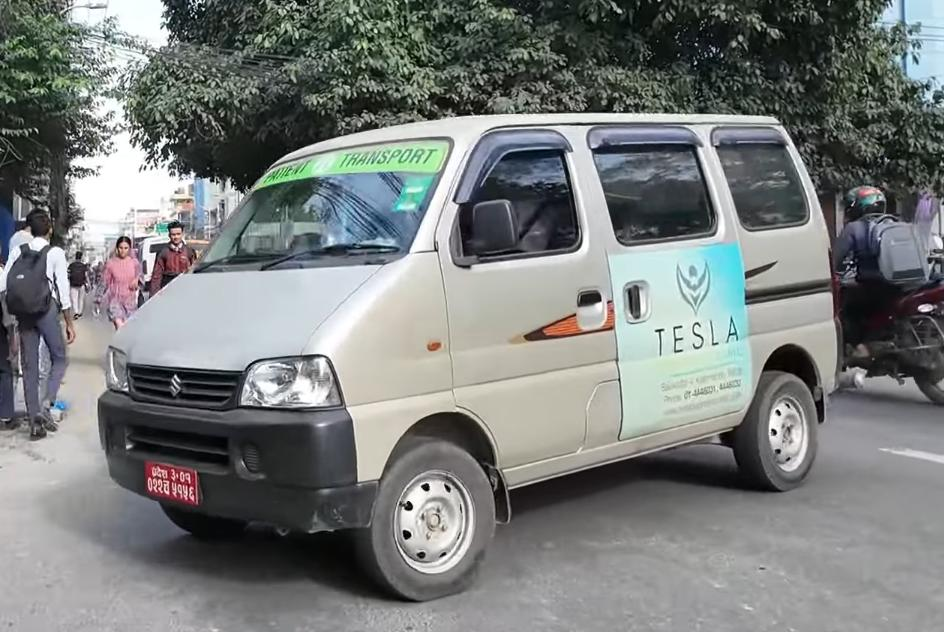van: (101, 94, 846, 602)
